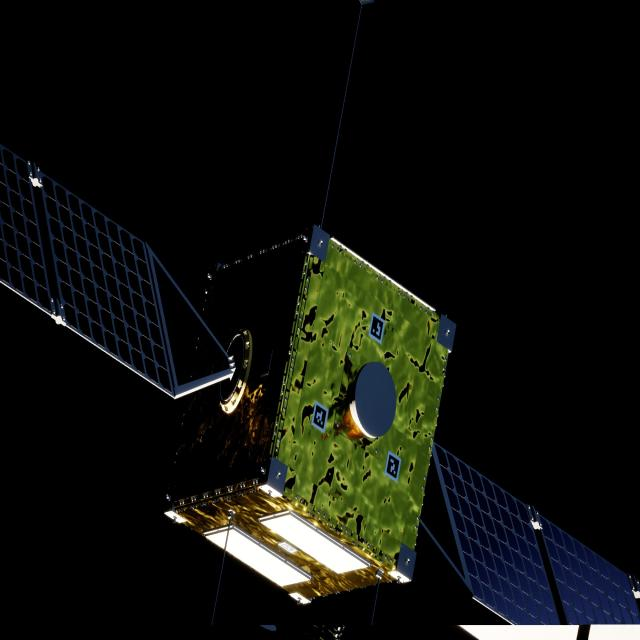satellite: (0, 143, 640, 629)
